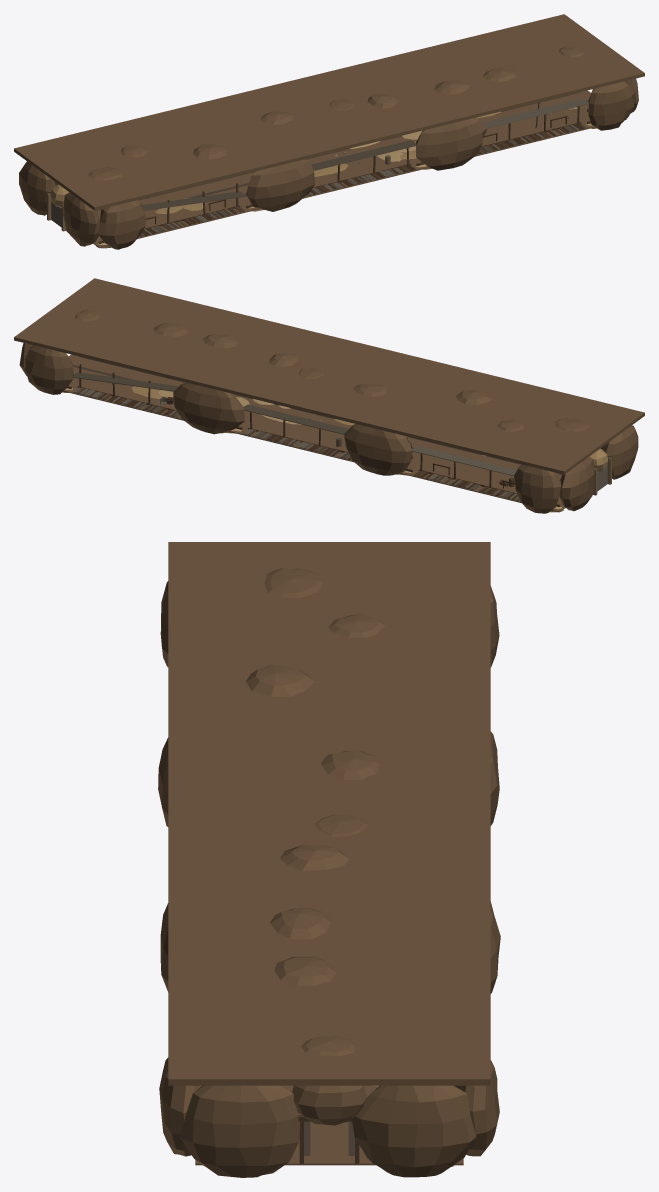
The model's file is TownStreet.glb.
3 renders of one model, top to bottom at view 1: azimuth 30°, elevation 25°; view 2: azimuth 150°, elevation 25°; view 3: azimuth 270°, elevation 25°, orthographic. The views are drawn at different scales.
Visible parts, largest first — view 1: TownStreet.001; view 2: TownStreet.001; view 3: TownStreet.001.
Part boxes in pixels (box(x1,y1,x2,y2)): TownStreet.001: box(14, 14, 644, 249); TownStreet.001: box(14, 278, 644, 513); TownStreet.001: box(158, 542, 500, 1177).
Size of the model in its own units: 72.4 by 7.16 by 19.14.
